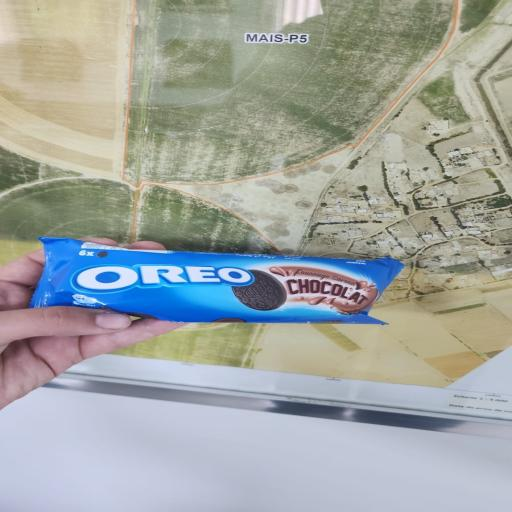oreo: (12, 199, 470, 389)
